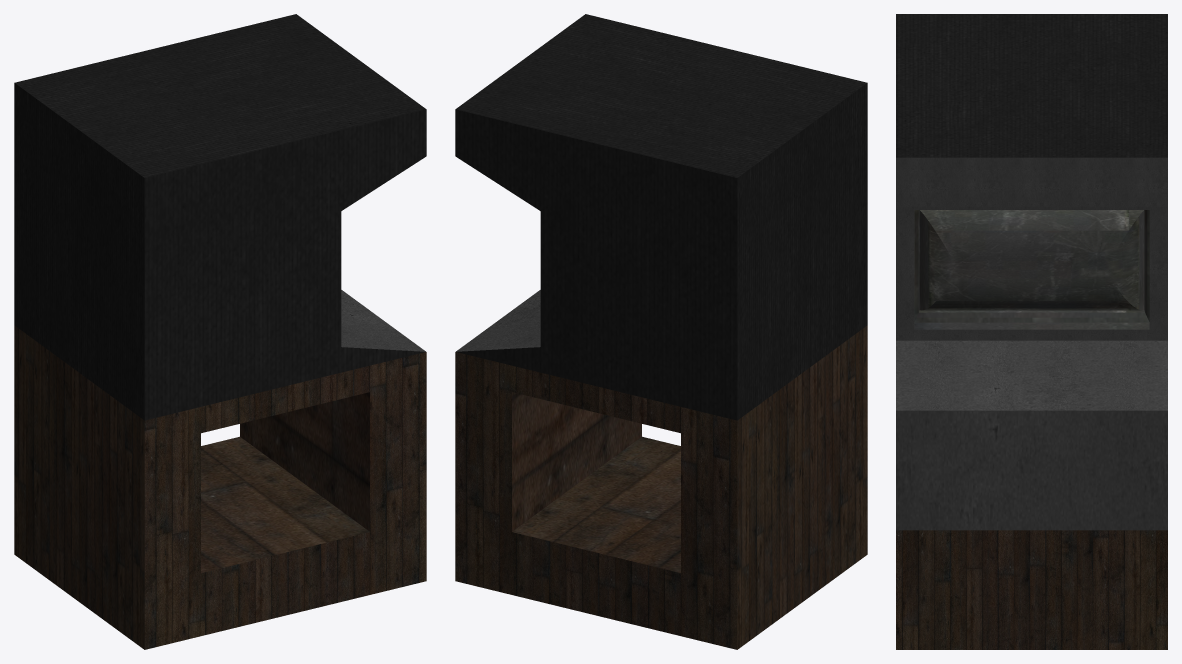
Rendered from ArcadeMachine.fbx.
The picture shows the model from 3 angles, left to right: view 1: azimuth 30°, elevation 25°; view 2: azimuth 150°, elevation 25°; view 3: azimuth 270°, elevation 25°; orthographic projection. The views are drawn at different scales.
Parts seen in each view (by area): view 1: w; view 2: w; view 3: w.
Boxes of the visible parts, bbox=[...] form: w: bbox=[14, 14, 426, 649]; w: bbox=[455, 14, 867, 649]; w: bbox=[896, 14, 1167, 649].
Bounding box in the file's own units: 100 × 160 × 80.
